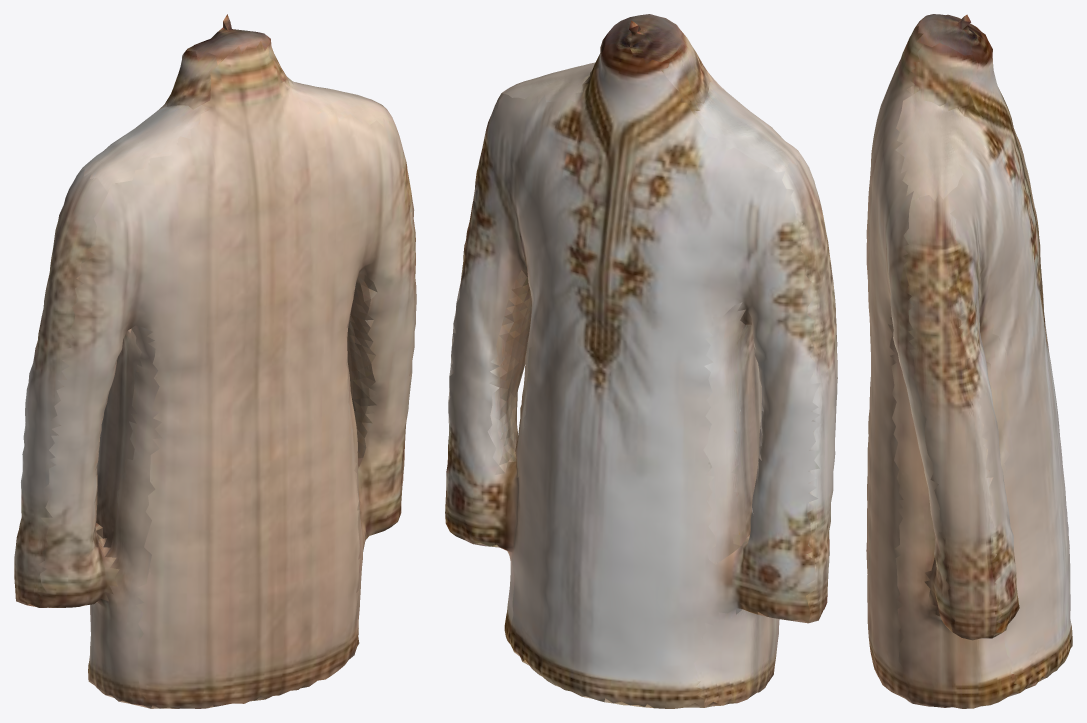
File: tmpkiciehot.glb
3 renders of one model, left to right at view 1: azimuth 30°, elevation 25°; view 2: azimuth 150°, elevation 25°; view 3: azimuth 270°, elevation 25°, orthographic.
Visible parts, largest first — view 1: world; view 2: world; view 3: world.
Part boxes in pixels (x1,y1,x2,y2): world: (14,14,416,708); world: (445,14,837,708); world: (866,14,1072,708).
Size of the model in its own units: 0.5208 by 0.8602 by 0.2477.
Materials: 1 (1 with a texture image).
